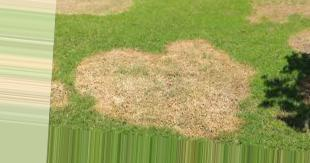patch: (79, 54, 149, 97), (177, 68, 225, 110), (177, 47, 208, 69), (181, 126, 217, 140), (67, 5, 124, 13), (105, 100, 133, 113), (262, 7, 285, 20), (161, 72, 177, 90), (141, 107, 161, 118), (294, 36, 310, 43)
